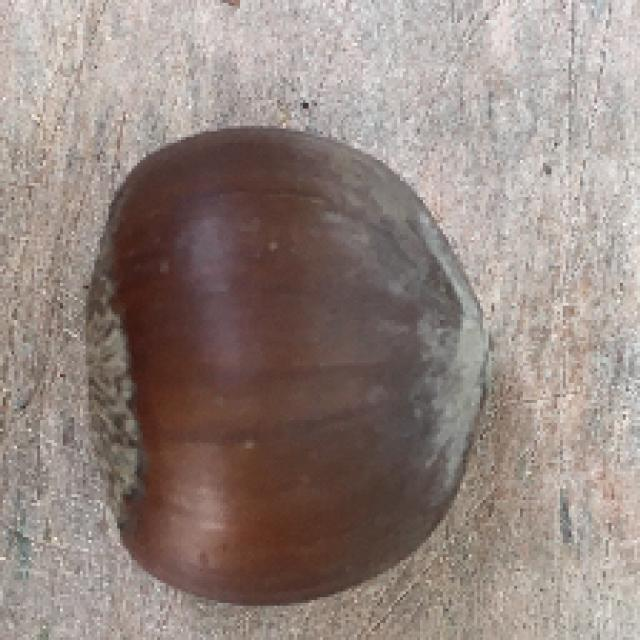damagedHazelnut: (82, 120, 504, 610)
